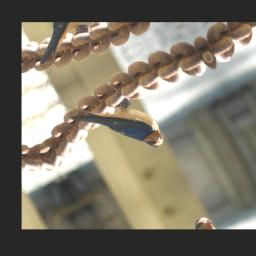Swallow: (48, 61, 168, 181)
